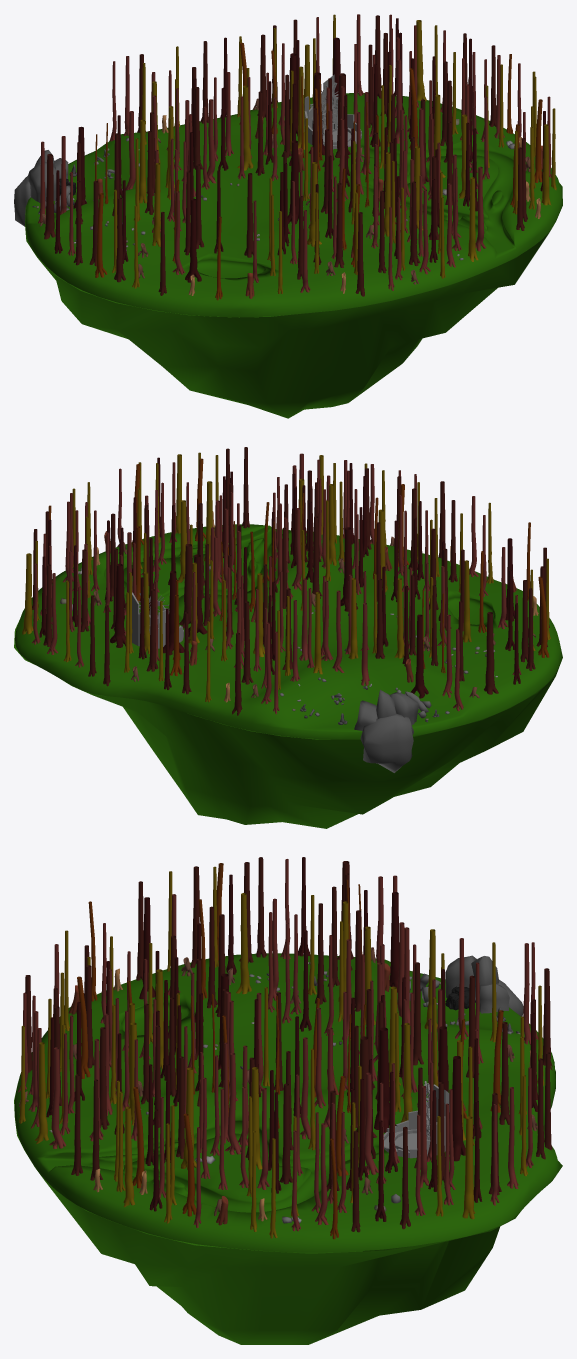
File: Forest.fbx
3 renders of one model, top to bottom at view 1: azimuth 30°, elevation 25°; view 2: azimuth 150°, elevation 25°; view 3: azimuth 270°, elevation 25°, orthographic. The views are drawn at different scales.
Parts seen in each view (by area): view 1: ForestLowerGround, MontainRocks, ForestRiverSource, TreeType3.028, TreeType1.008, TreeType1.026, TreeType5.019, TreeType5.049, TreeType3.004, TreeType3.027, TreeType5.010, TreeType3.001 (+9 smaller); view 2: ForestLowerGround, MontainRocks, ForestRiverSource, TreeType1.037, TreeType3.028, TreeType1.021, TreeType3.017, TreeType1.008, TreeType5.038, TreeType1.017, TreeType5.049, TreeType5.021 (+17 smaller); view 3: ForestLowerGround, MontainRocks, ForestRiverSource, TreeType1.012, TreeType1.037, TreeType5.038, TreeType1.021, TreeType5.049, TreeType3.034, TreeType5.046, TreeType3.021, TreeType7.005 (+35 smaller).
Boxes of the visible parts, x1,y1,x2,y2 form: ForestLowerGround: (25,93,562,418); MontainRocks: (14,150,69,226); ForestRiverSource: (304,74,361,149); TreeType3.028: (44,154,55,239); TreeType1.008: (287,140,303,224); TreeType1.026: (185,198,201,282); TreeType5.019: (237,85,253,170); TreeType5.049: (152,163,160,246); TreeType3.004: (409,181,420,266); TreeType3.027: (244,173,253,257); TreeType5.010: (468,177,478,261); TreeType3.001: (334,183,344,267); ForestLowerGround: (14,524,562,828); MontainRocks: (354,689,418,772); ForestRiverSource: (132,592,183,648); TreeType1.037: (110,563,125,647); TreeType3.028: (484,612,498,694); TreeType1.021: (410,614,428,698); TreeType3.017: (179,544,192,628); TreeType1.008: (340,527,357,611); TreeType5.038: (22,553,33,634); TreeType1.017: (163,571,184,655); TreeType5.049: (462,560,471,642); TreeType5.021: (313,592,322,674); ForestLowerGround: (14,953,562,1344); MontainRocks: (445,955,523,1016); ForestRiverSource: (383,1081,449,1158); TreeType1.012: (374,1027,395,1132); TreeType1.037: (449,1056,465,1161); TreeType5.038: (462,1116,475,1219); TreeType1.021: (389,892,399,992); TreeType5.049: (236,893,251,994); TreeType3.034: (279,1083,292,1184); TreeType5.046: (123,1106,134,1207); TreeType3.021: (413,962,423,1065); TreeType7.005: (49,1047,66,1148).
Size of the model in its own units: 18675 by 10430 by 15047.
